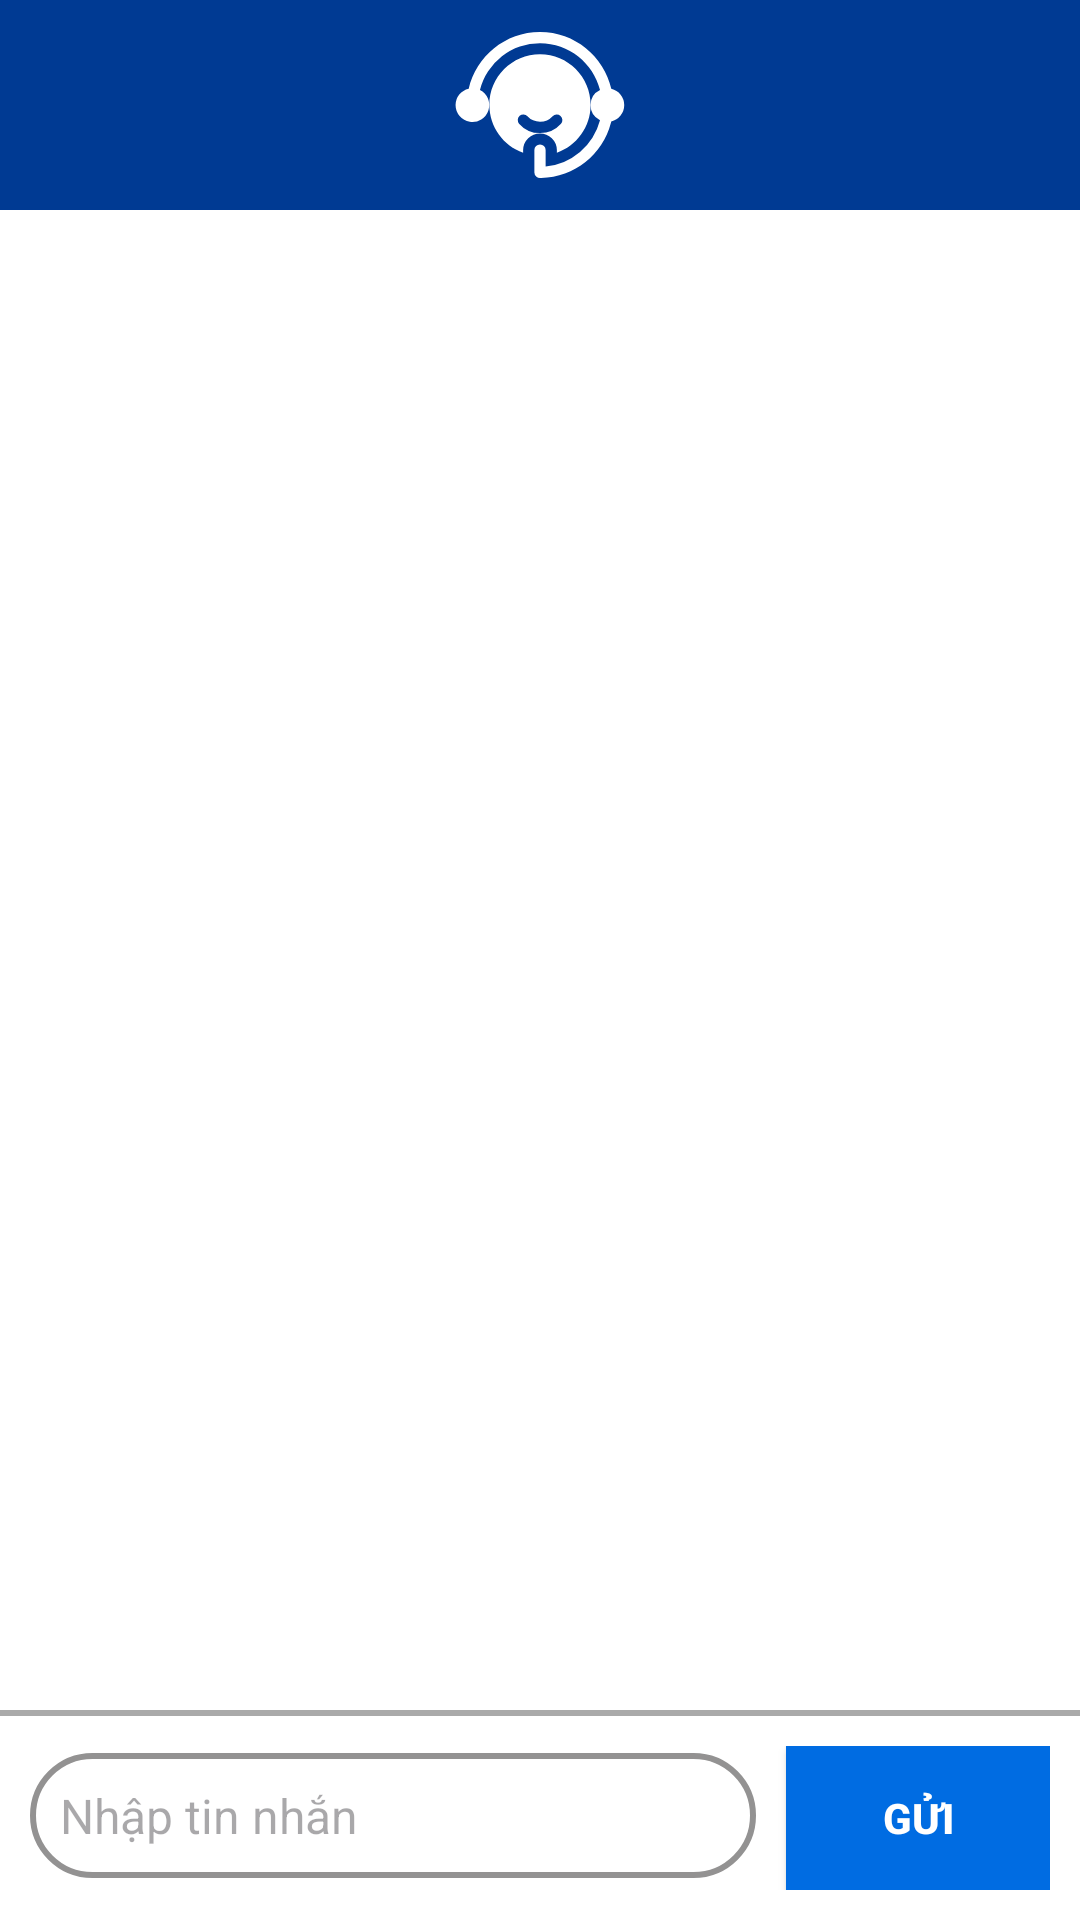

Point at icon controls on the screen. Image size 1080 x 1920, points as [x,y].
customer service: [540,105]
